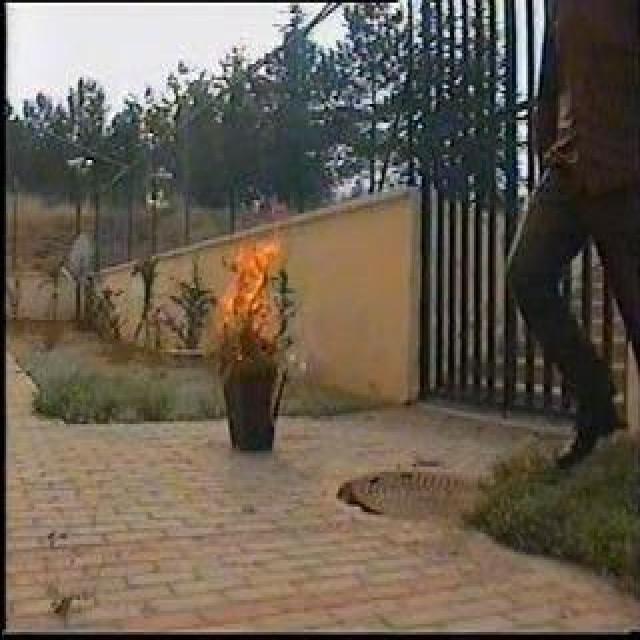fire: (223, 239, 273, 320)
